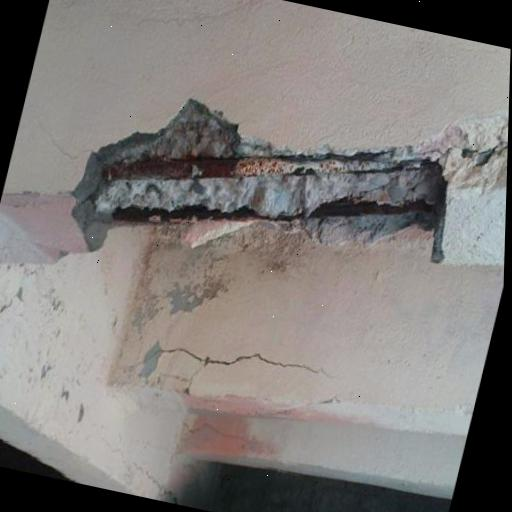exposed_rebar: (112, 190, 441, 229), (103, 156, 437, 181)
spalling: (72, 99, 509, 261)
